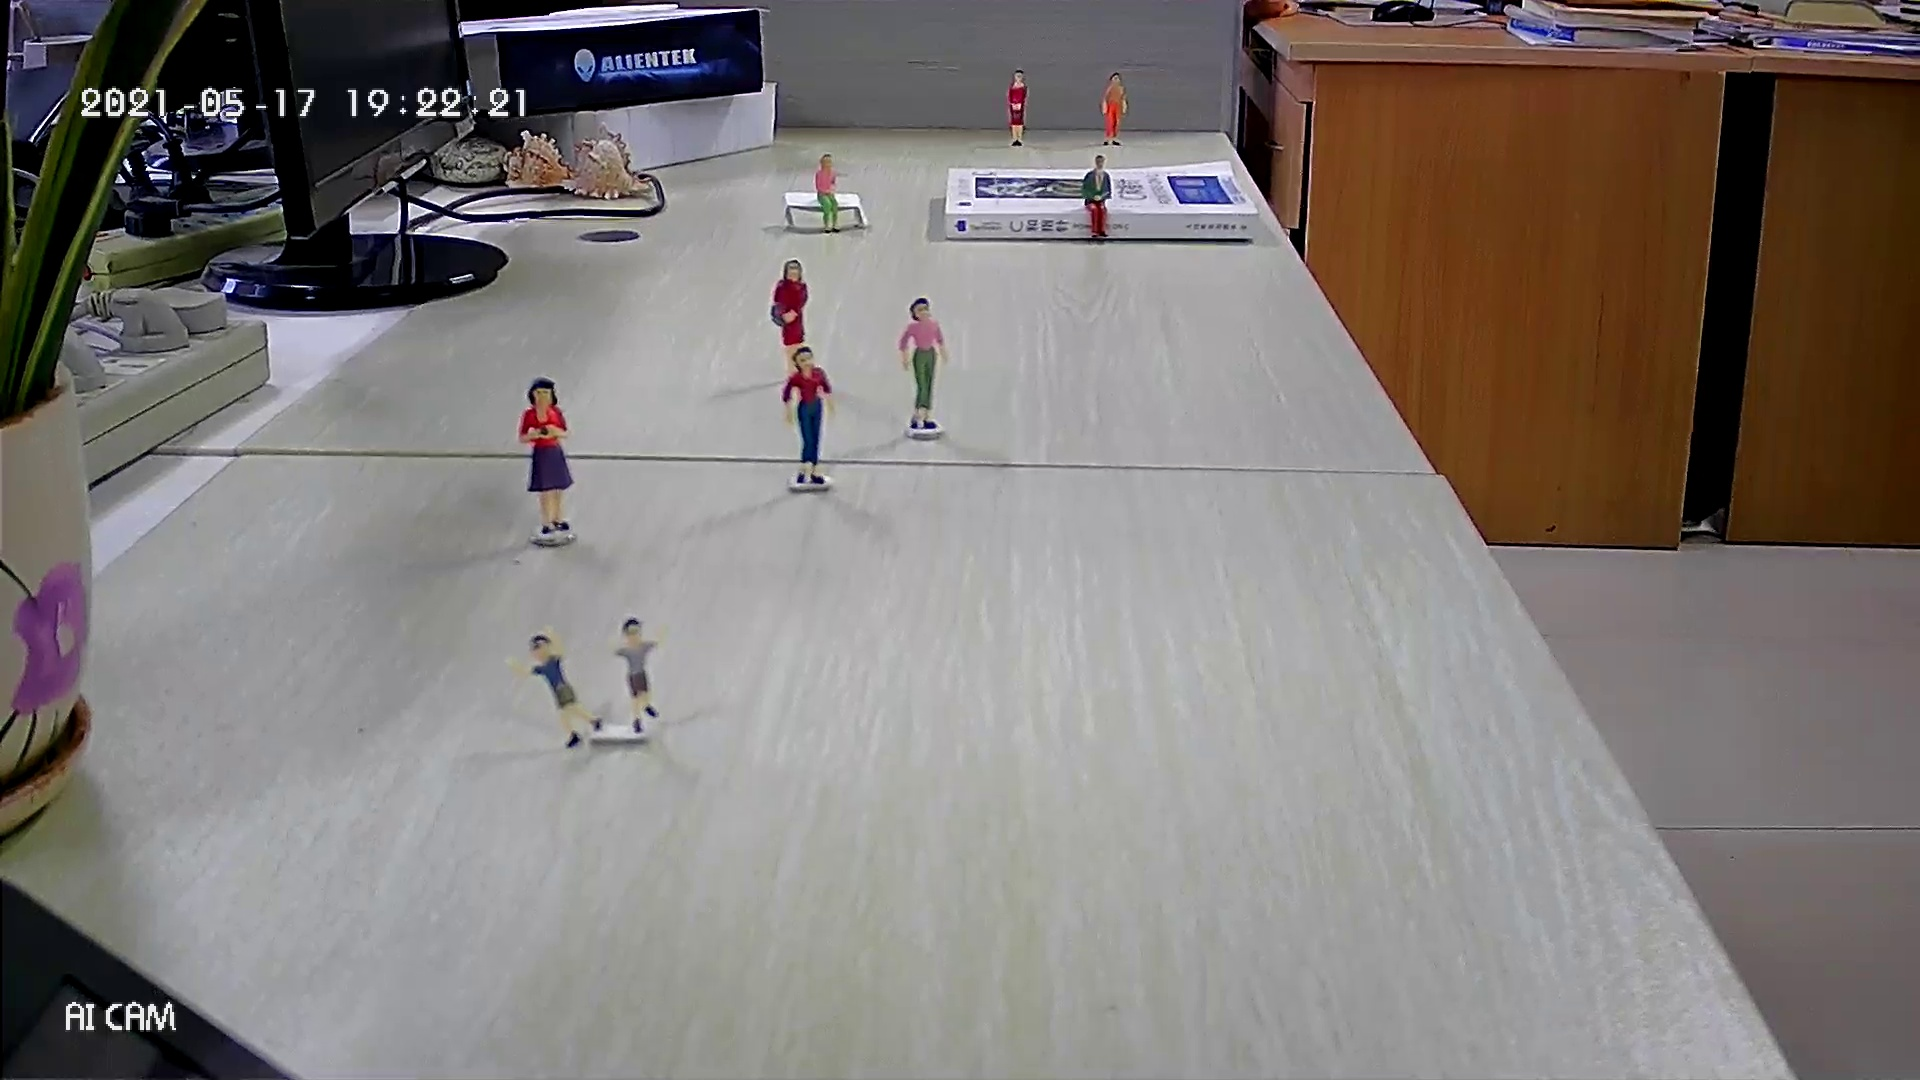person: (507, 620, 605, 754), (517, 374, 577, 542), (893, 292, 953, 438), (781, 346, 841, 490), (603, 614, 675, 732), (767, 254, 813, 386), (1079, 152, 1119, 246), (811, 148, 847, 238), (1003, 64, 1031, 150), (1101, 70, 1131, 148)
